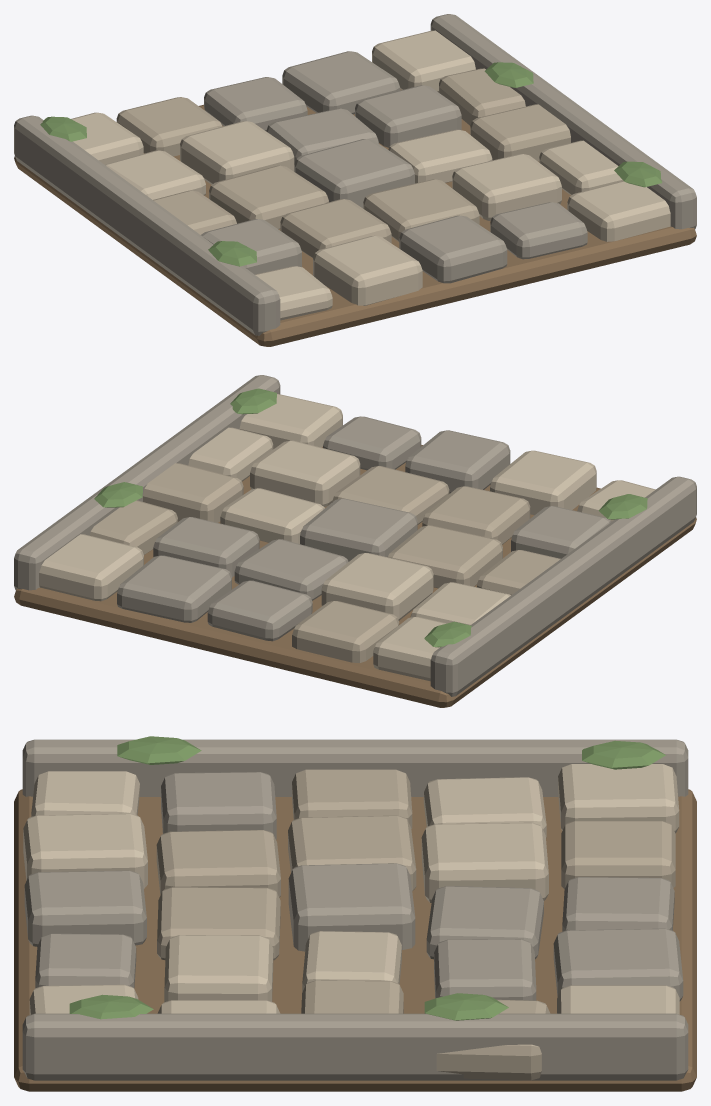
Rendered from stone_road.glb.
3 views of the same model, one above another, from view 1: azimuth 30°, elevation 25°; view 2: azimuth 150°, elevation 25°; view 3: azimuth 270°, elevation 25° (orthographic). The views are drawn at different scales.
Visible parts, largest first — view 1: StoneRoadTile_Geometry; view 2: StoneRoadTile_Geometry; view 3: StoneRoadTile_Geometry.
Boxes of the visible parts, box(x1,y1,x2,y2) form: StoneRoadTile_Geometry: box(14, 14, 696, 346); StoneRoadTile_Geometry: box(14, 375, 696, 707); StoneRoadTile_Geometry: box(14, 736, 696, 1091).
Size of the model in its own units: 2.04 by 0.265 by 2.
